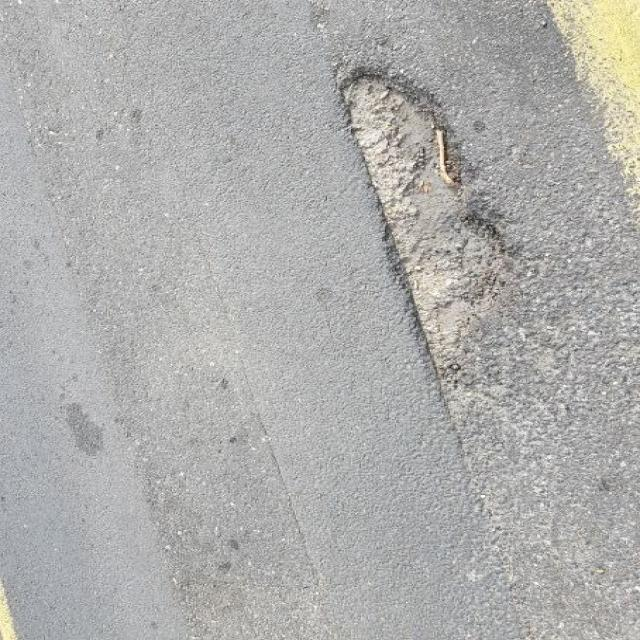pothole: (332, 54, 536, 396)
